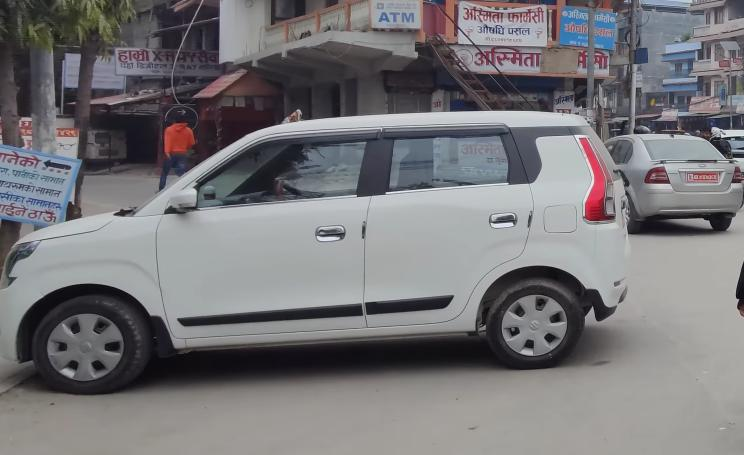SUV: (1, 99, 636, 388)
car: (597, 132, 744, 235)
